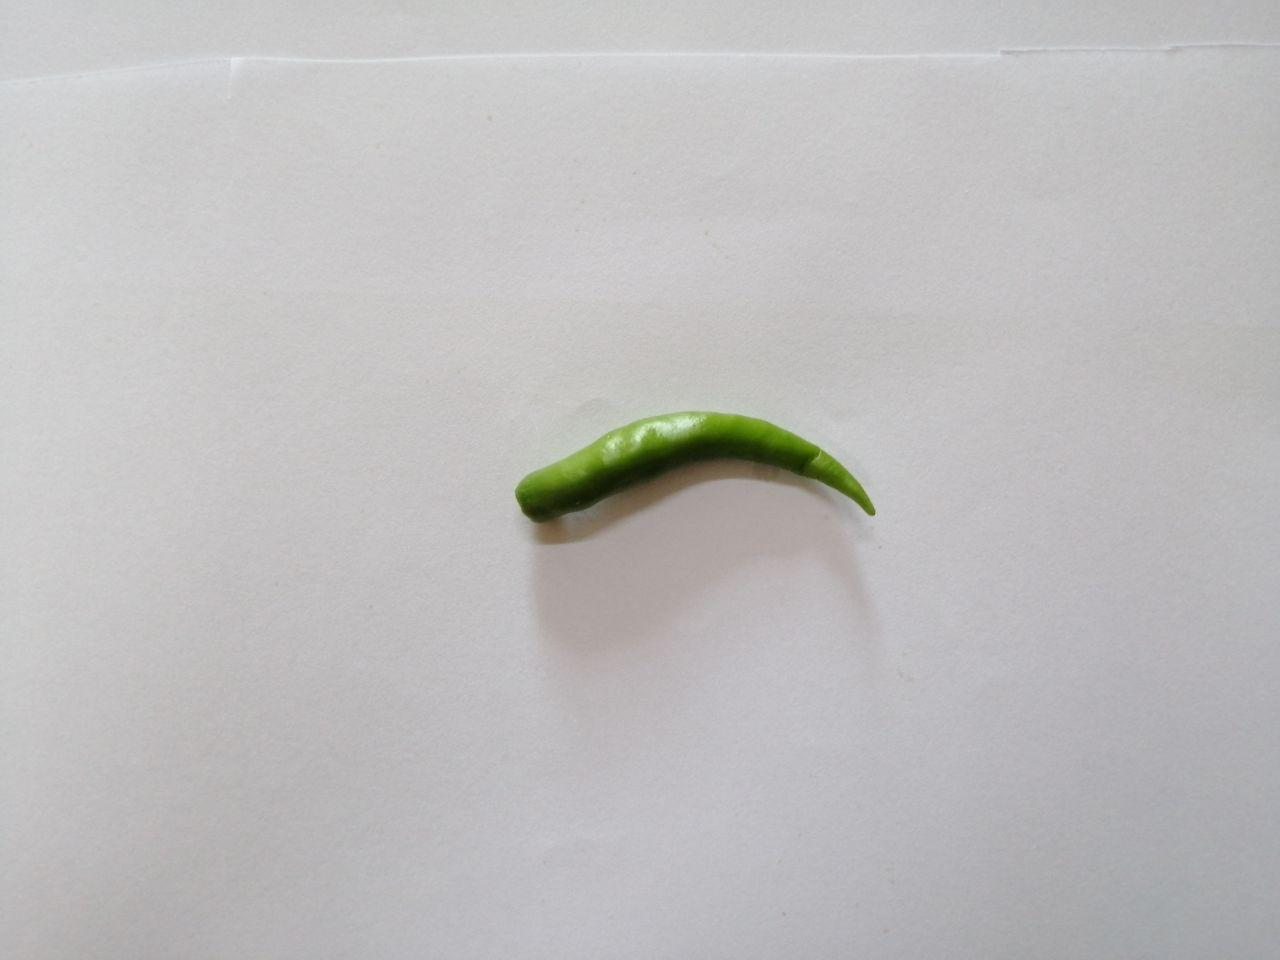lada hijau: (499, 371, 912, 558)
